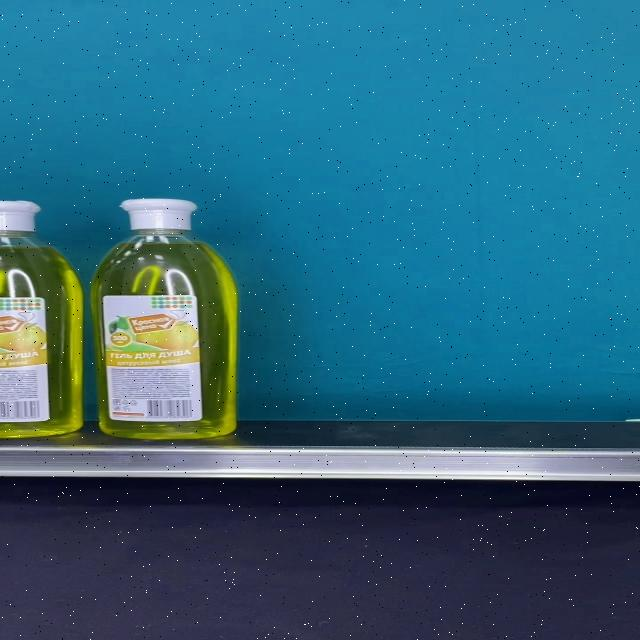Bottle: (92, 199, 238, 440)
Cap: (120, 199, 197, 231)
